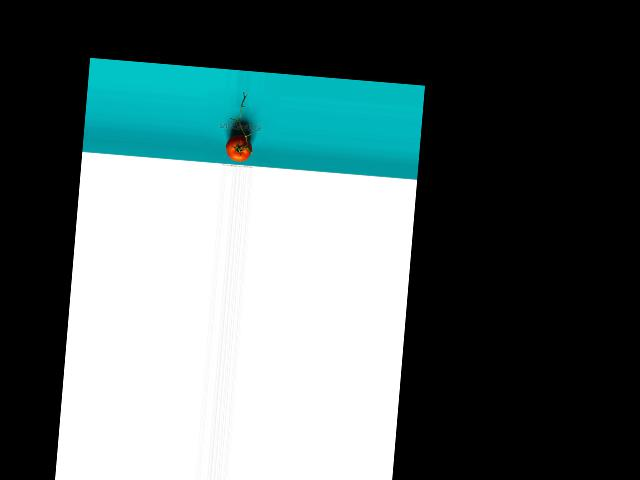tomato: (225, 134, 253, 162)
